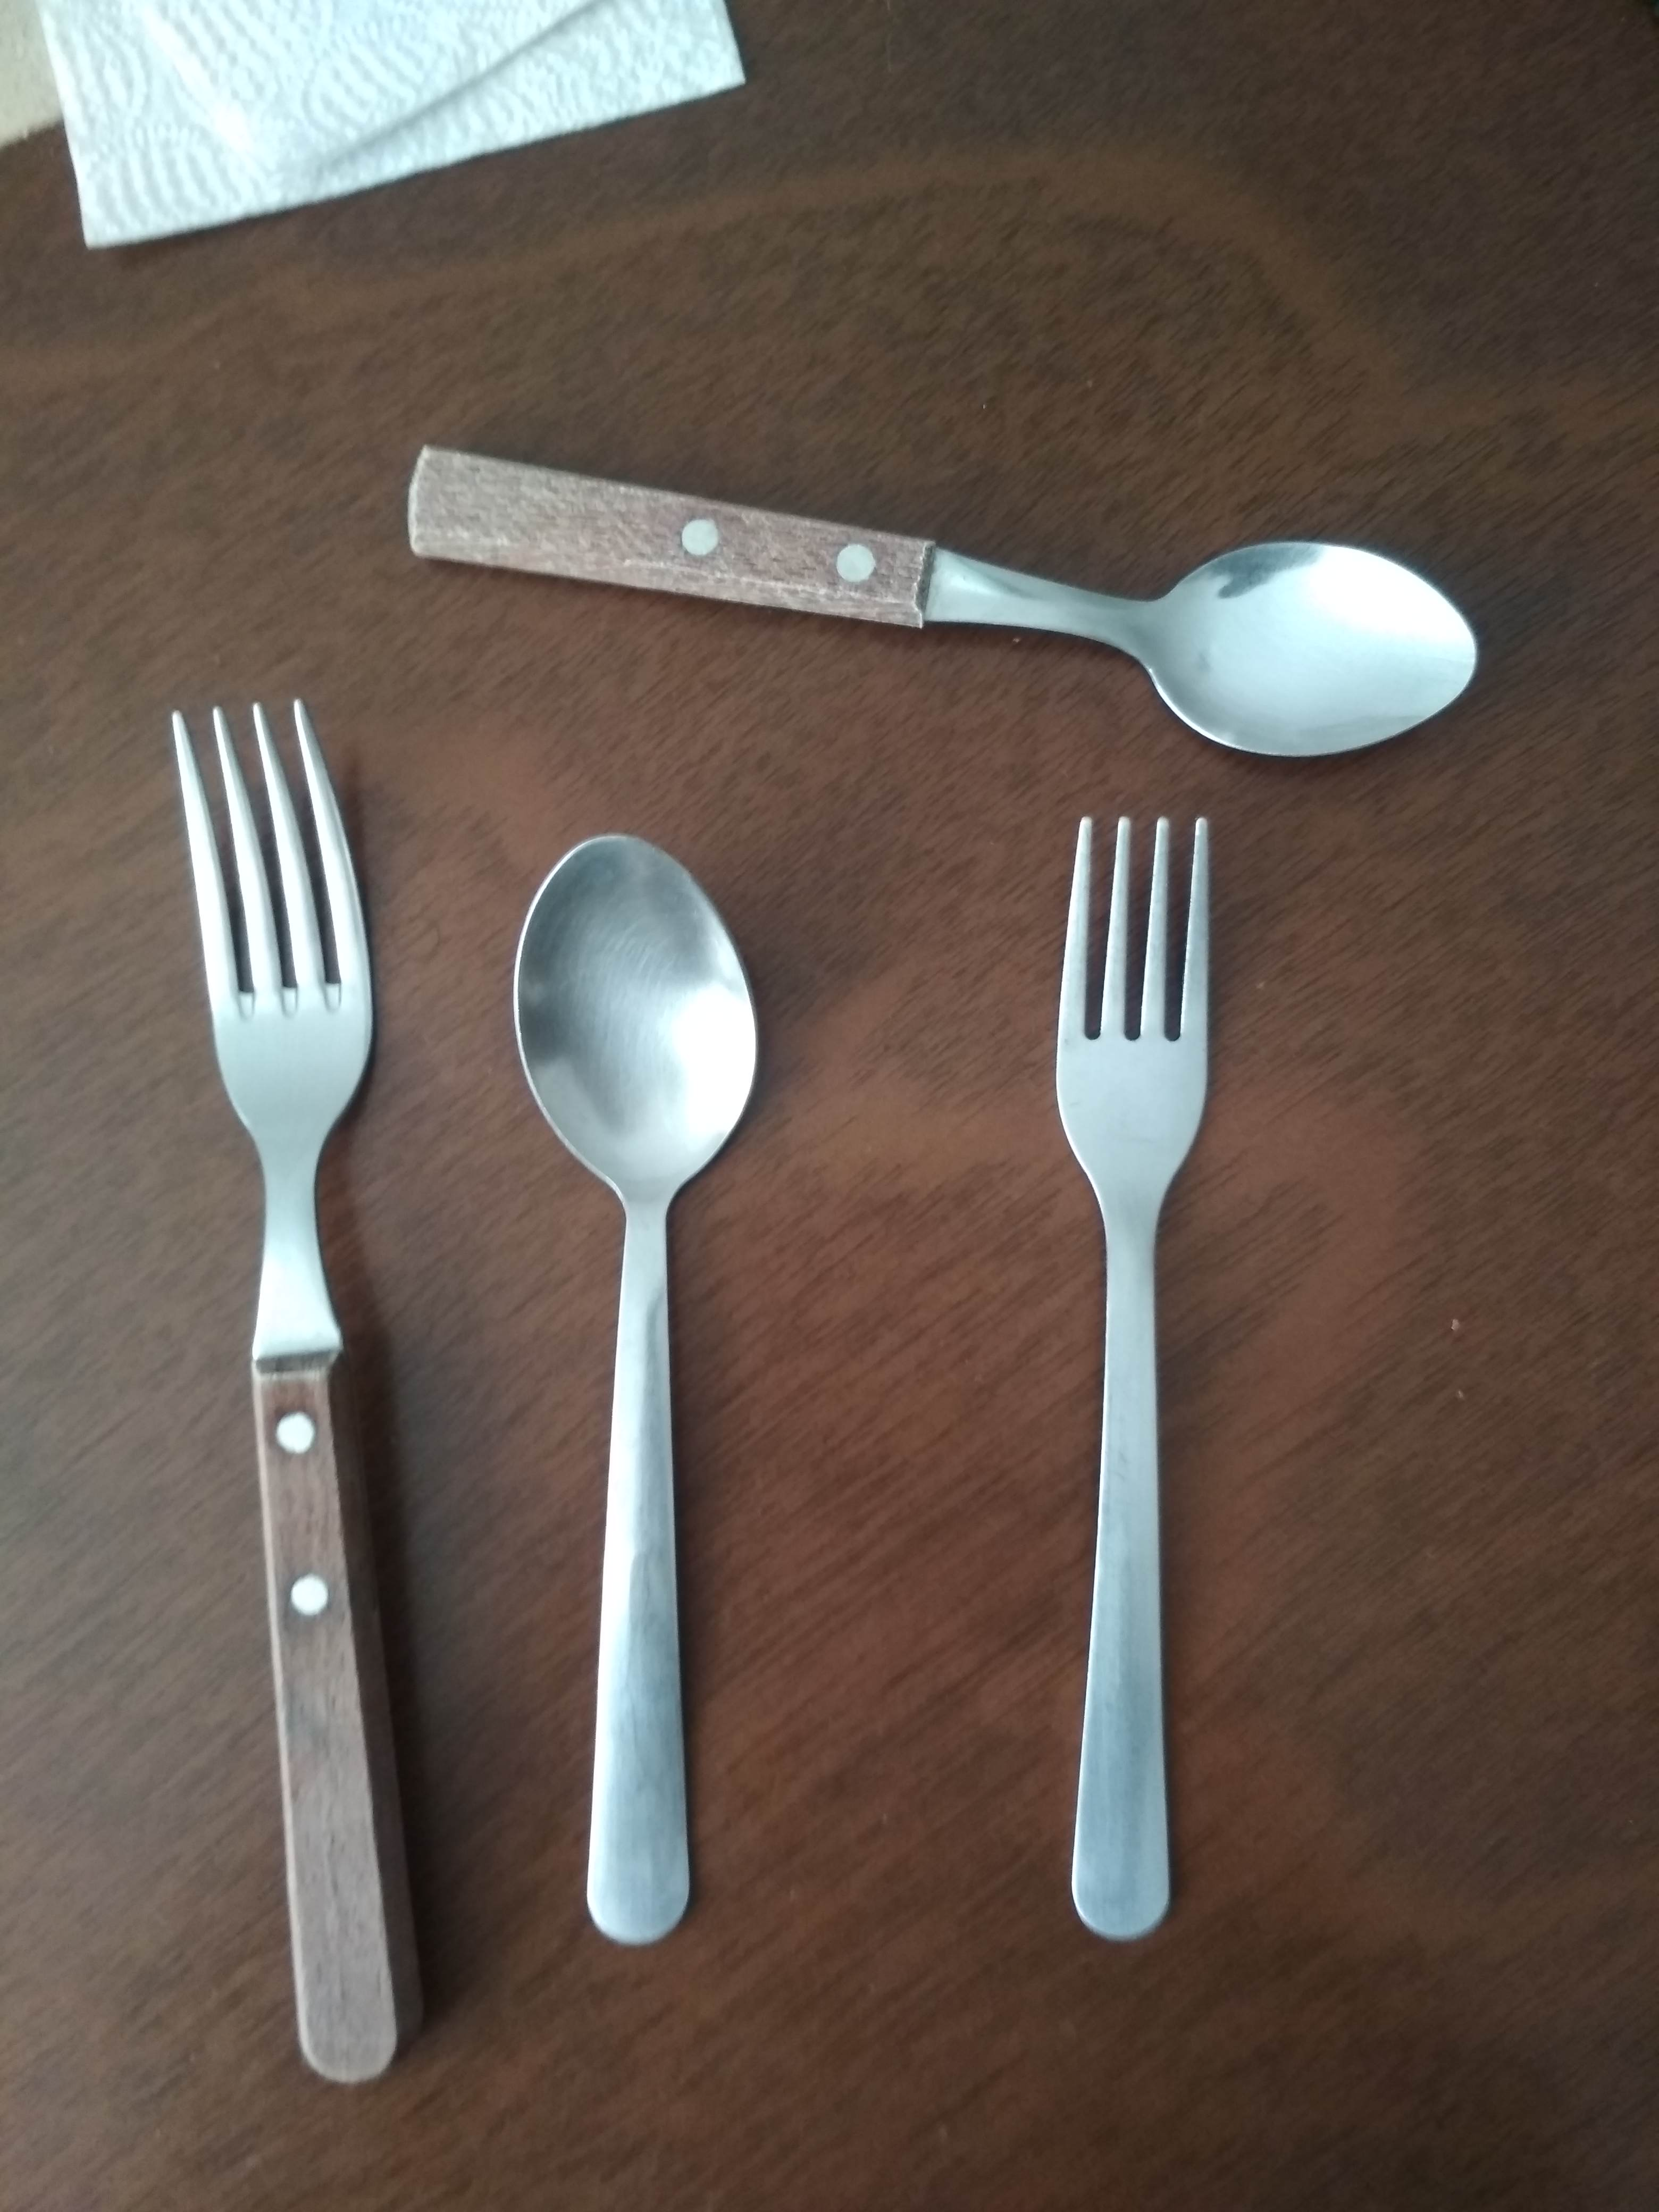fork: (136, 671, 455, 2106), (1026, 799, 1234, 1959)
spoon: (383, 425, 1500, 775), (486, 812, 784, 1961)
